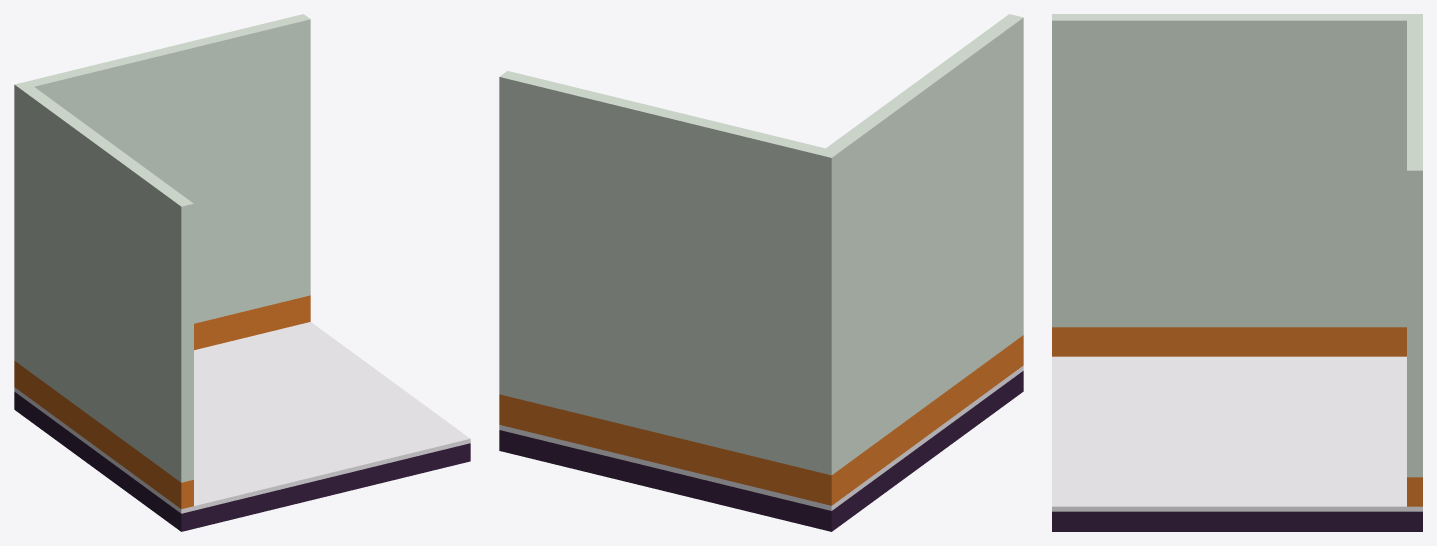
The model's file is wall-corner-white.glb.
3 renders of one model, left to right at view 1: azimuth 30°, elevation 25°; view 2: azimuth 150°, elevation 25°; view 3: azimuth 270°, elevation 25°, orthographic. The views are drawn at different scales.
Parts seen in each view (by area): view 1: wall-corner-white; view 2: wall-corner-white; view 3: wall-corner-white.
Boxes of the visible parts, left/top/right/bottom form: wall-corner-white: left=14, top=14, right=470, bottom=531; wall-corner-white: left=499, top=14, right=1023, bottom=531; wall-corner-white: left=1052, top=14, right=1422, bottom=531.
Size of the model in its own units: 2 by 2.15 by 2.
Materials: 1 (1 with a texture image).
